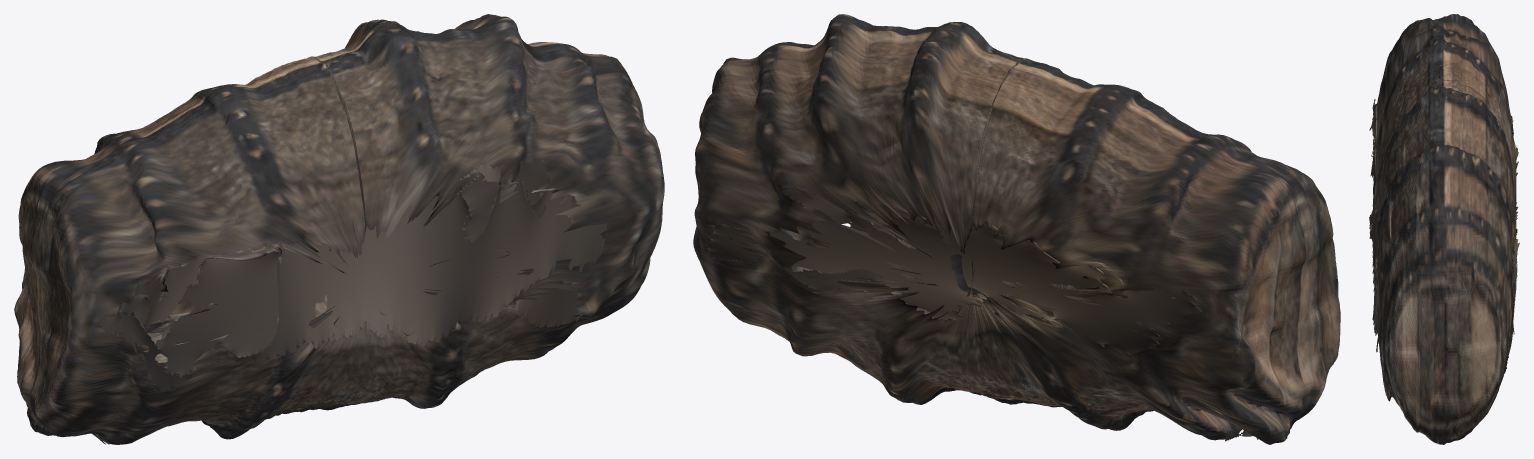
Rendered from guess_mesh.glb.
3 views of the same model, side by side, from view 1: azimuth 30°, elevation 25°; view 2: azimuth 150°, elevation 25°; view 3: azimuth 270°, elevation 25° (orthographic). The views are drawn at different scales.
Visible parts, largest first — view 1: ipn, fill; view 2: ipn, fill; view 3: ipn, fill.
Boxes of the visible parts, x1,y1,x2,y2 form: ipn: (14,14,664,444); fill: (92,158,608,444); ipn: (693,14,1340,444); fill: (705,187,1258,441); ipn: (1373,14,1517,444); fill: (1369,99,1519,373).
Size of the model in its own units: 1.93 by 1.18 by 0.515.
Materials: 2 (1 with a texture image).
